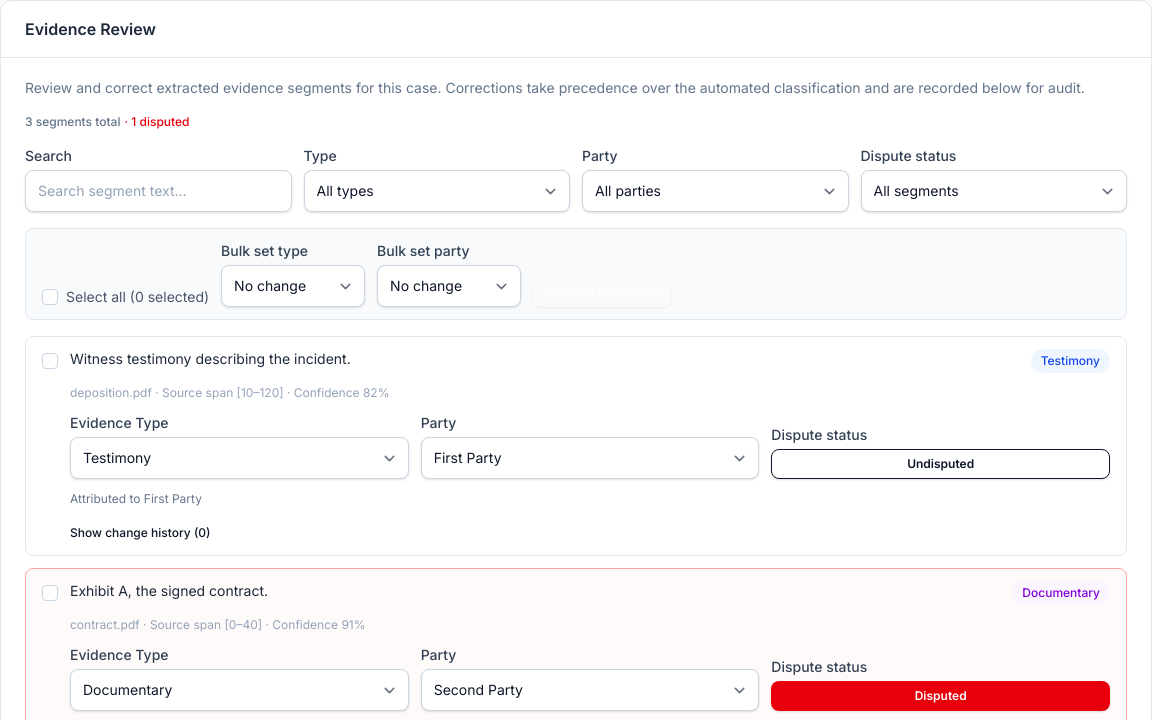
Scenario: EvidenceReviewPanel › clears all active filters and restores the full list
Select "Documentary" in the dropdown labelled "Type" at (437, 191), box [304,170,570,212]
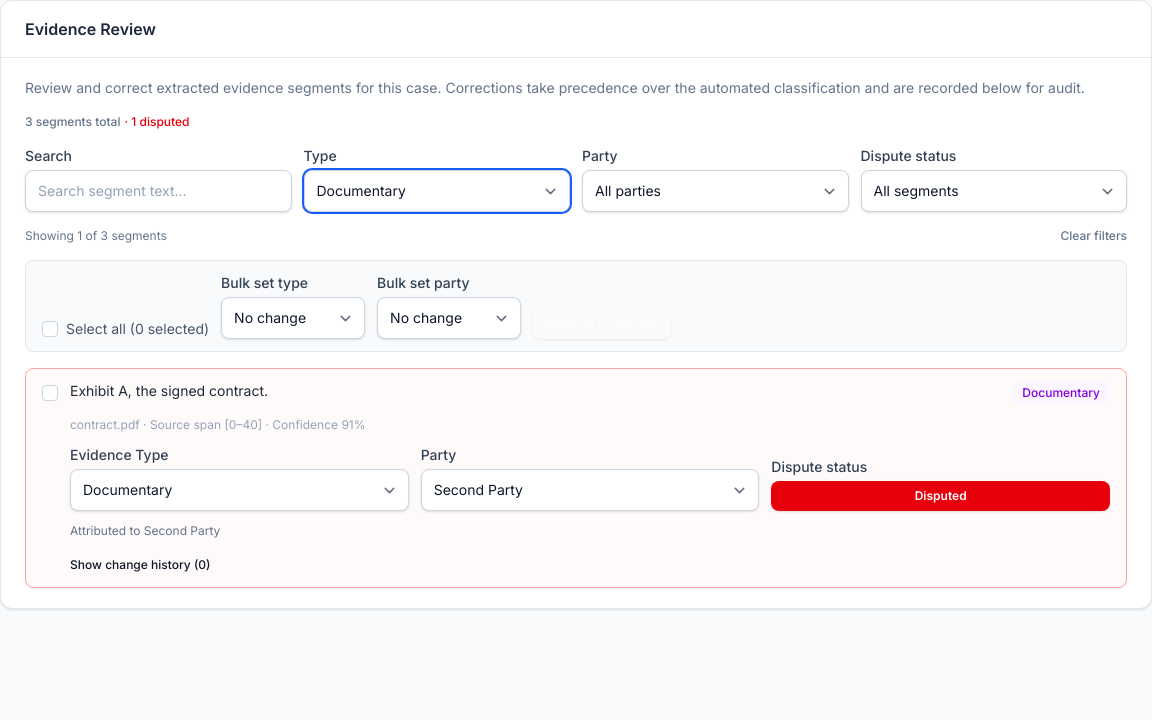
expect the text "Showing 1 of 3 segments" is shown: met, box [25,228,167,244]
Click the button "Clear filters" at (1094, 236), box [1060,228,1127,244]
(page scrolled)
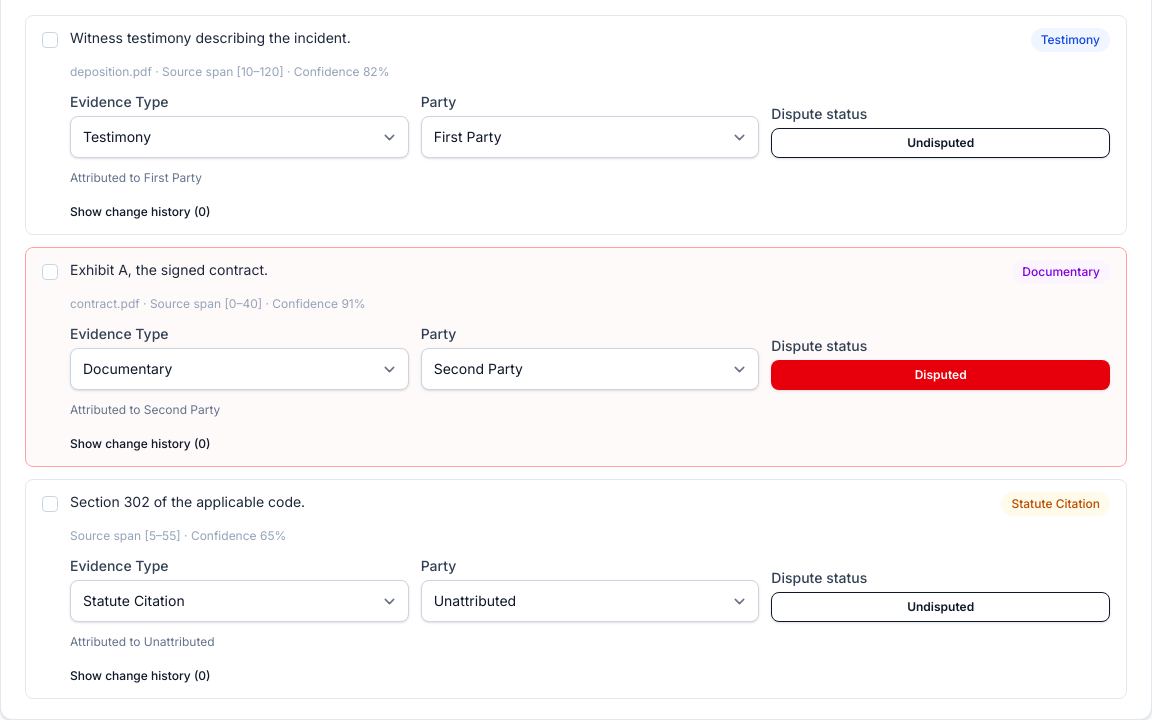
expect the list item with test id "evidence-review-segment-seg-1" is shown: met, box [25,15,1127,235]
expect the list item with test id "evidence-review-segment-seg-3" is shown: met, box [25,479,1127,699]
expect the button "Clear filters" is gone: met
